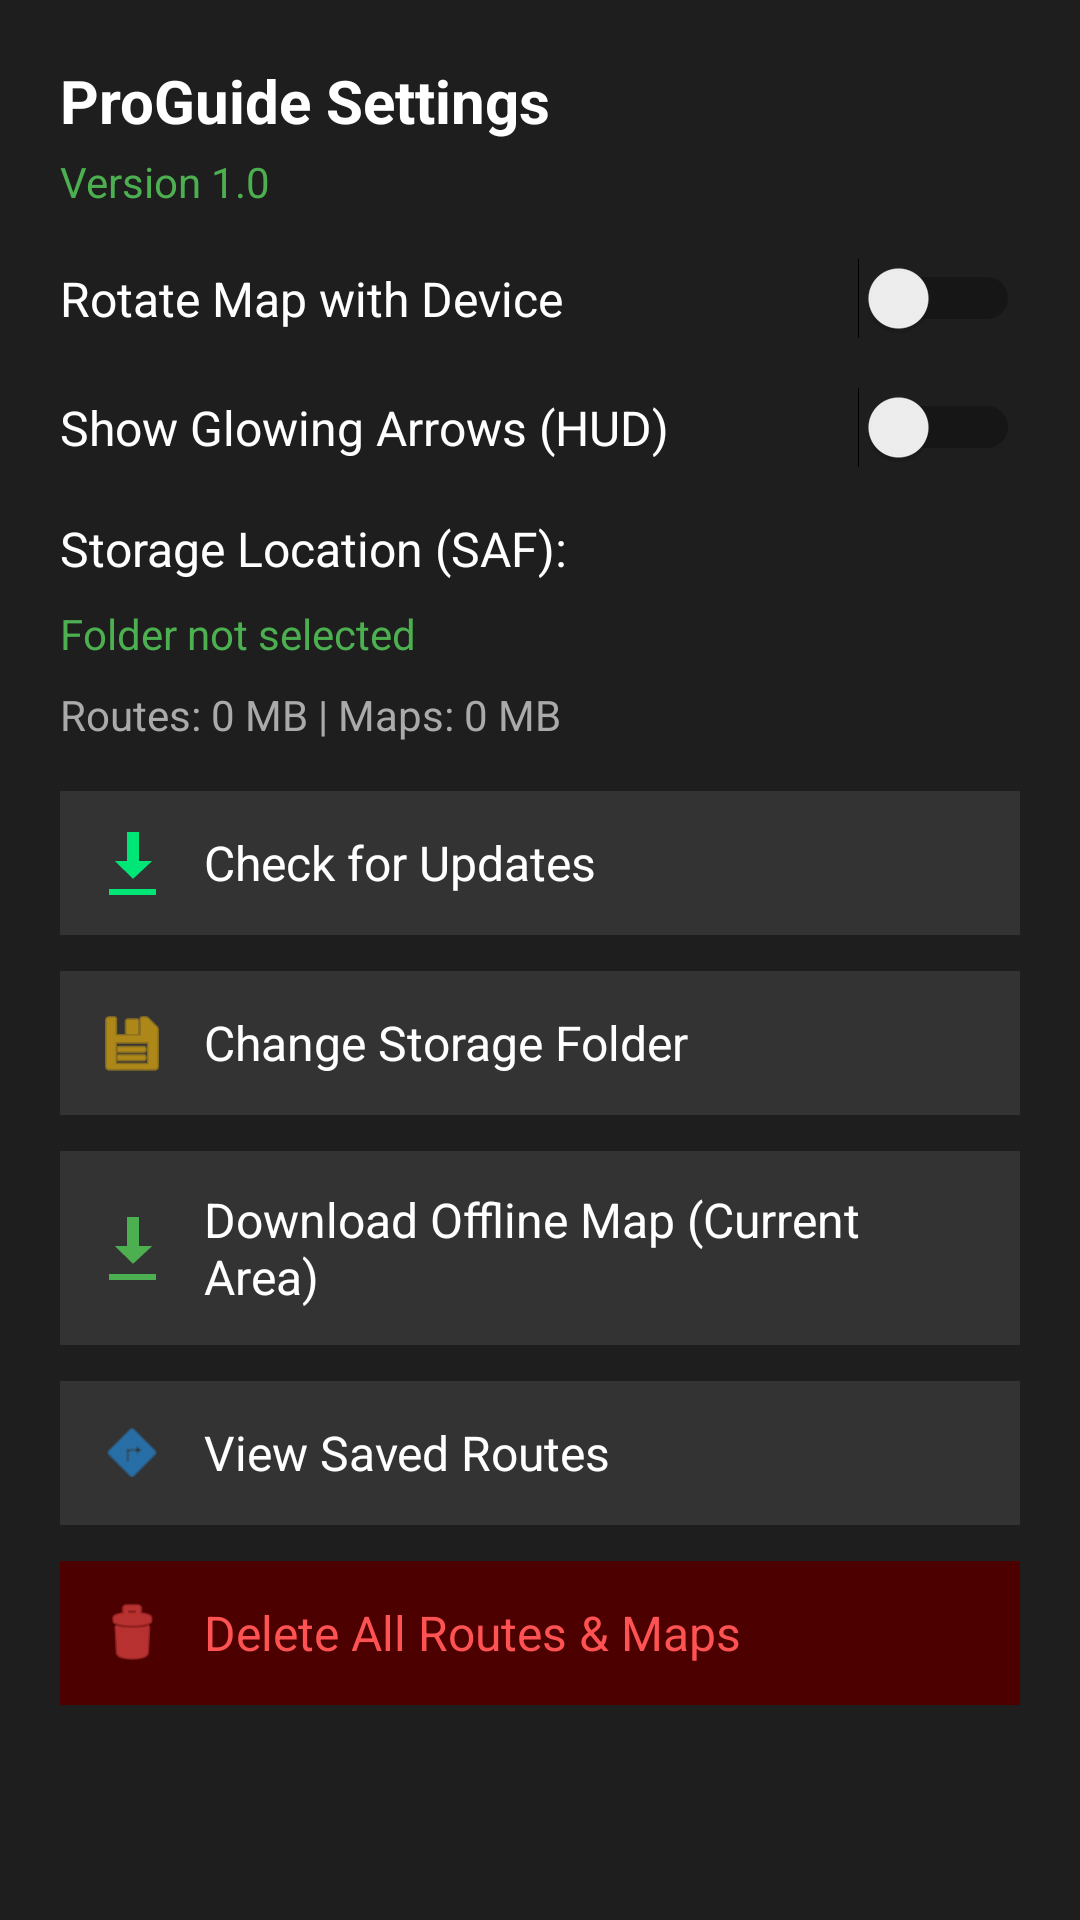

Icons on this 1080x1920 Android screen, each with the point to tap as (x,y):
directions: (132,1452)
download done: (132,863)
save: (132,1043)
